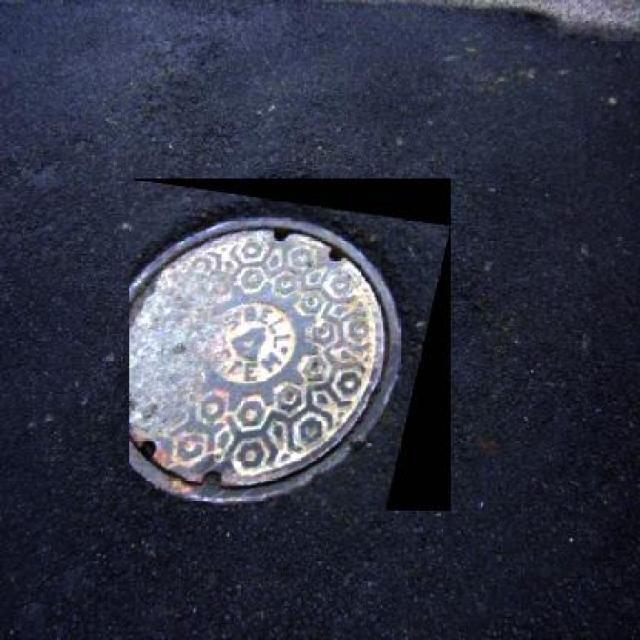Manhole: (129, 178, 451, 511)
